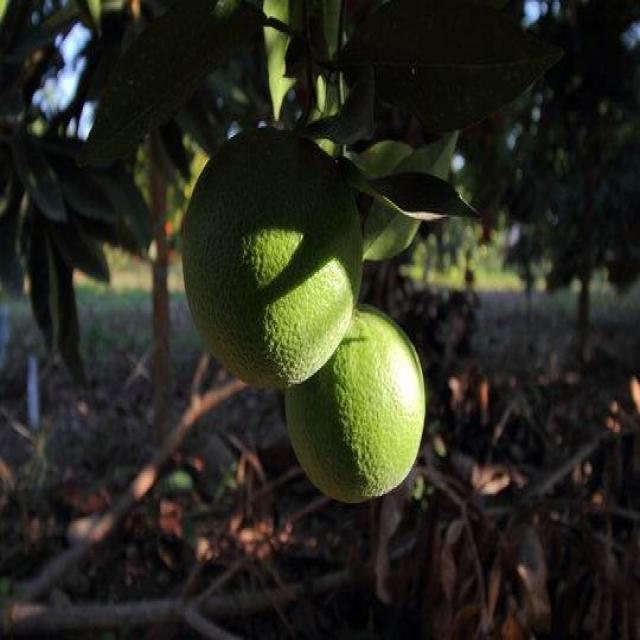Jeruk Belum Matang: (180, 124, 364, 394), (287, 300, 428, 505)
